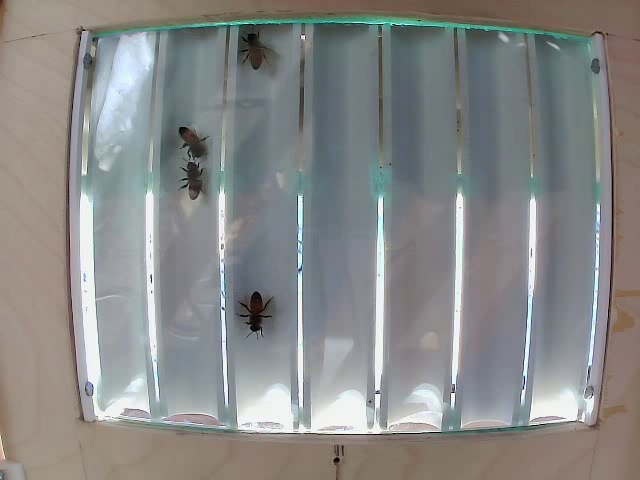bee: (233, 282, 278, 344), (239, 19, 276, 69), (163, 127, 201, 170), (177, 166, 209, 214)
